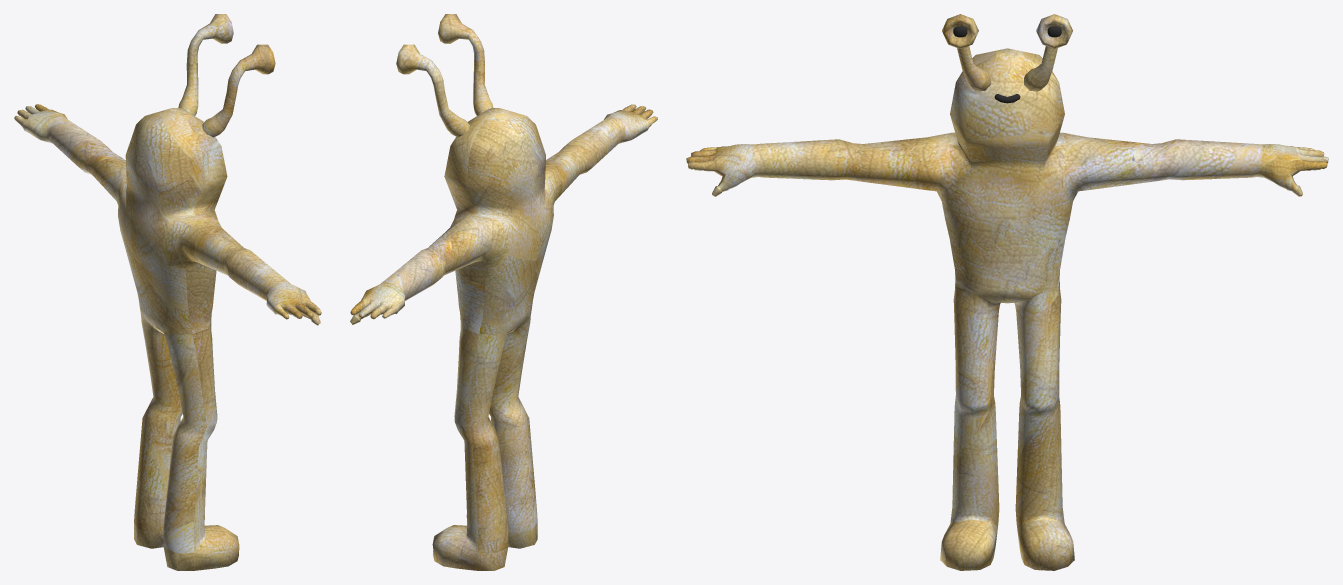
Rendered from Slug Person.glb.
3 views of the same model, side by side, from view 1: azimuth 30°, elevation 25°; view 2: azimuth 150°, elevation 25°; view 3: azimuth 270°, elevation 25° (orthographic). The views are drawn at different scales.
Visible parts, largest first — view 1: _100Avatars_136_SlugPerson; view 2: _100Avatars_136_SlugPerson; view 3: _100Avatars_136_SlugPerson.
Part boxes in pixels (x1,y1,x2,y2): _100Avatars_136_SlugPerson: (14,14,321,570); _100Avatars_136_SlugPerson: (350,14,657,570); _100Avatars_136_SlugPerson: (686,14,1328,570).
Size of the model in its own units: 1.18 by 5.06 by 5.17.
1 material, 1 textured.
